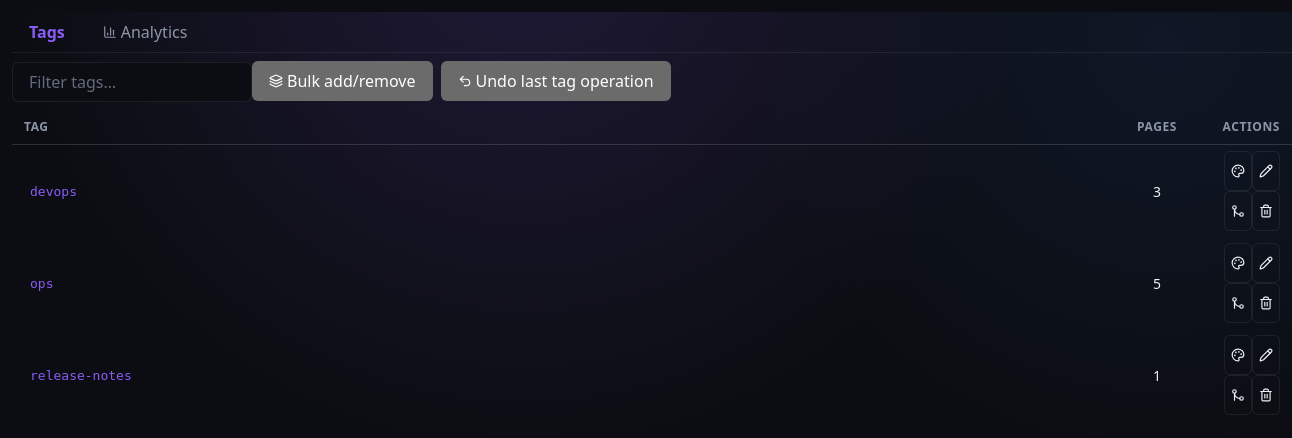
TagManagement (TM-04) › filter with no matches shows the empty row
In the field labelled "Filter tags…": (132, 82) [12,62,252,102], type "zzz"
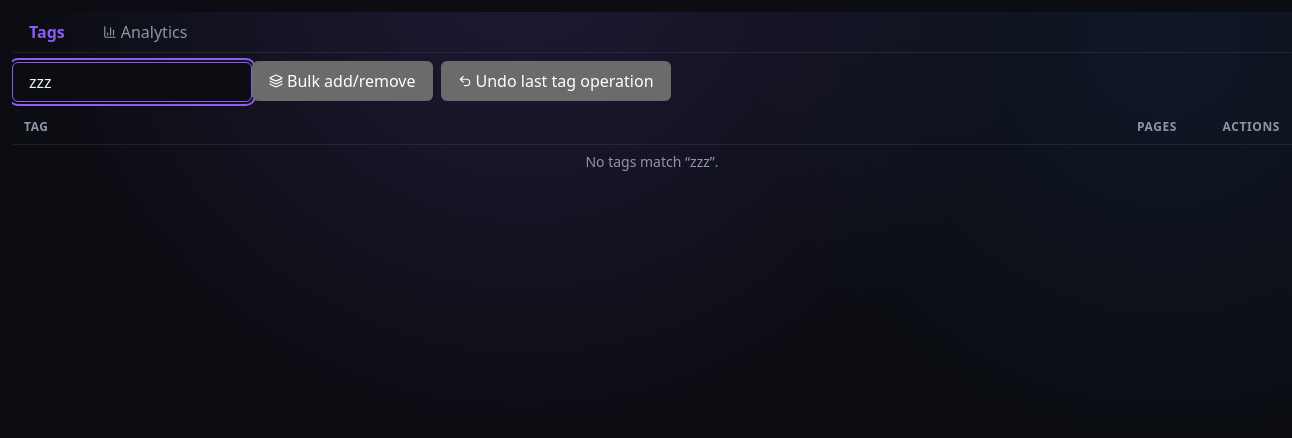
Result: the text "No tags match “zzz”." is shown at [12,144,1291,178]
